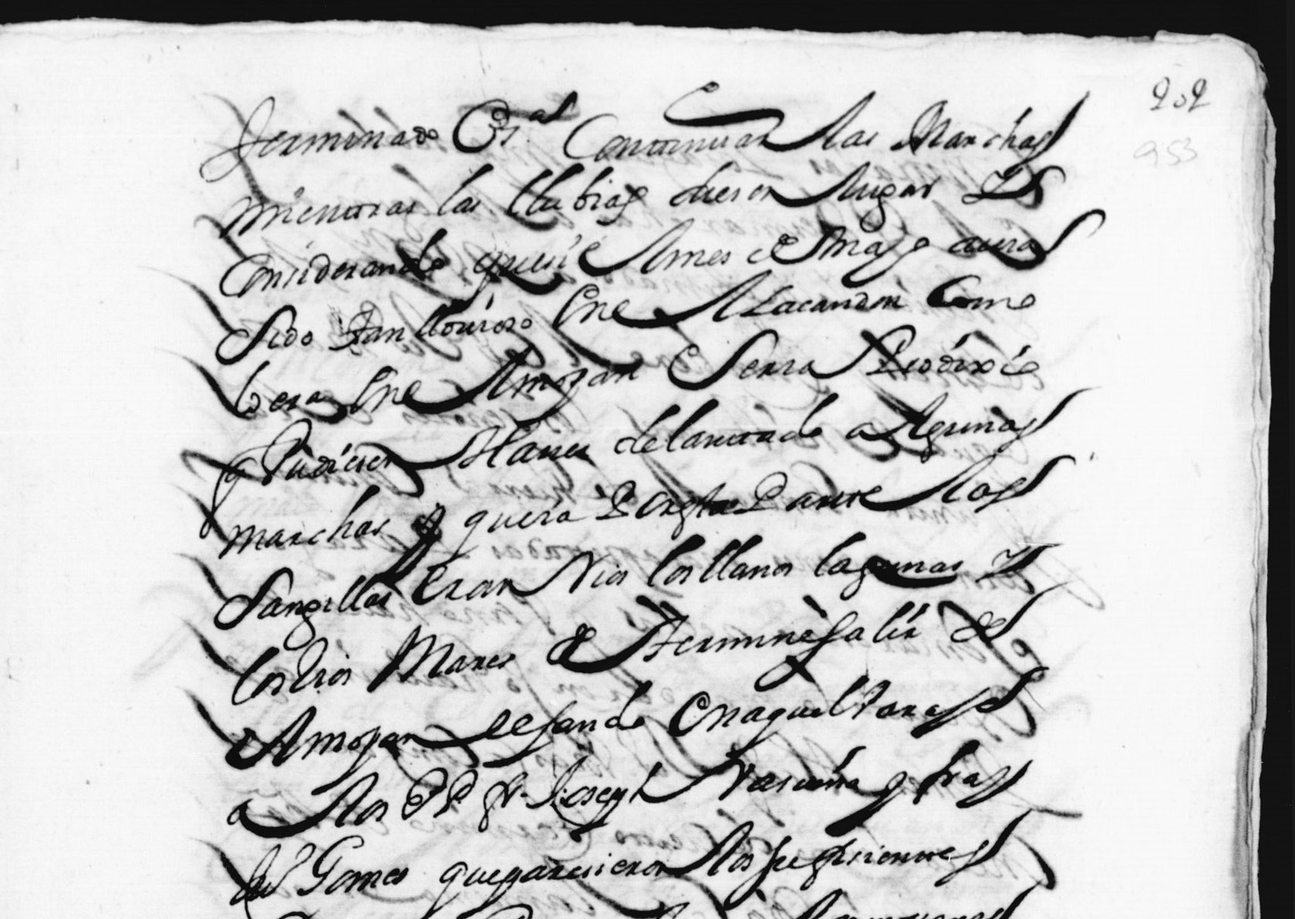lacandon: (740, 284, 907, 317)
